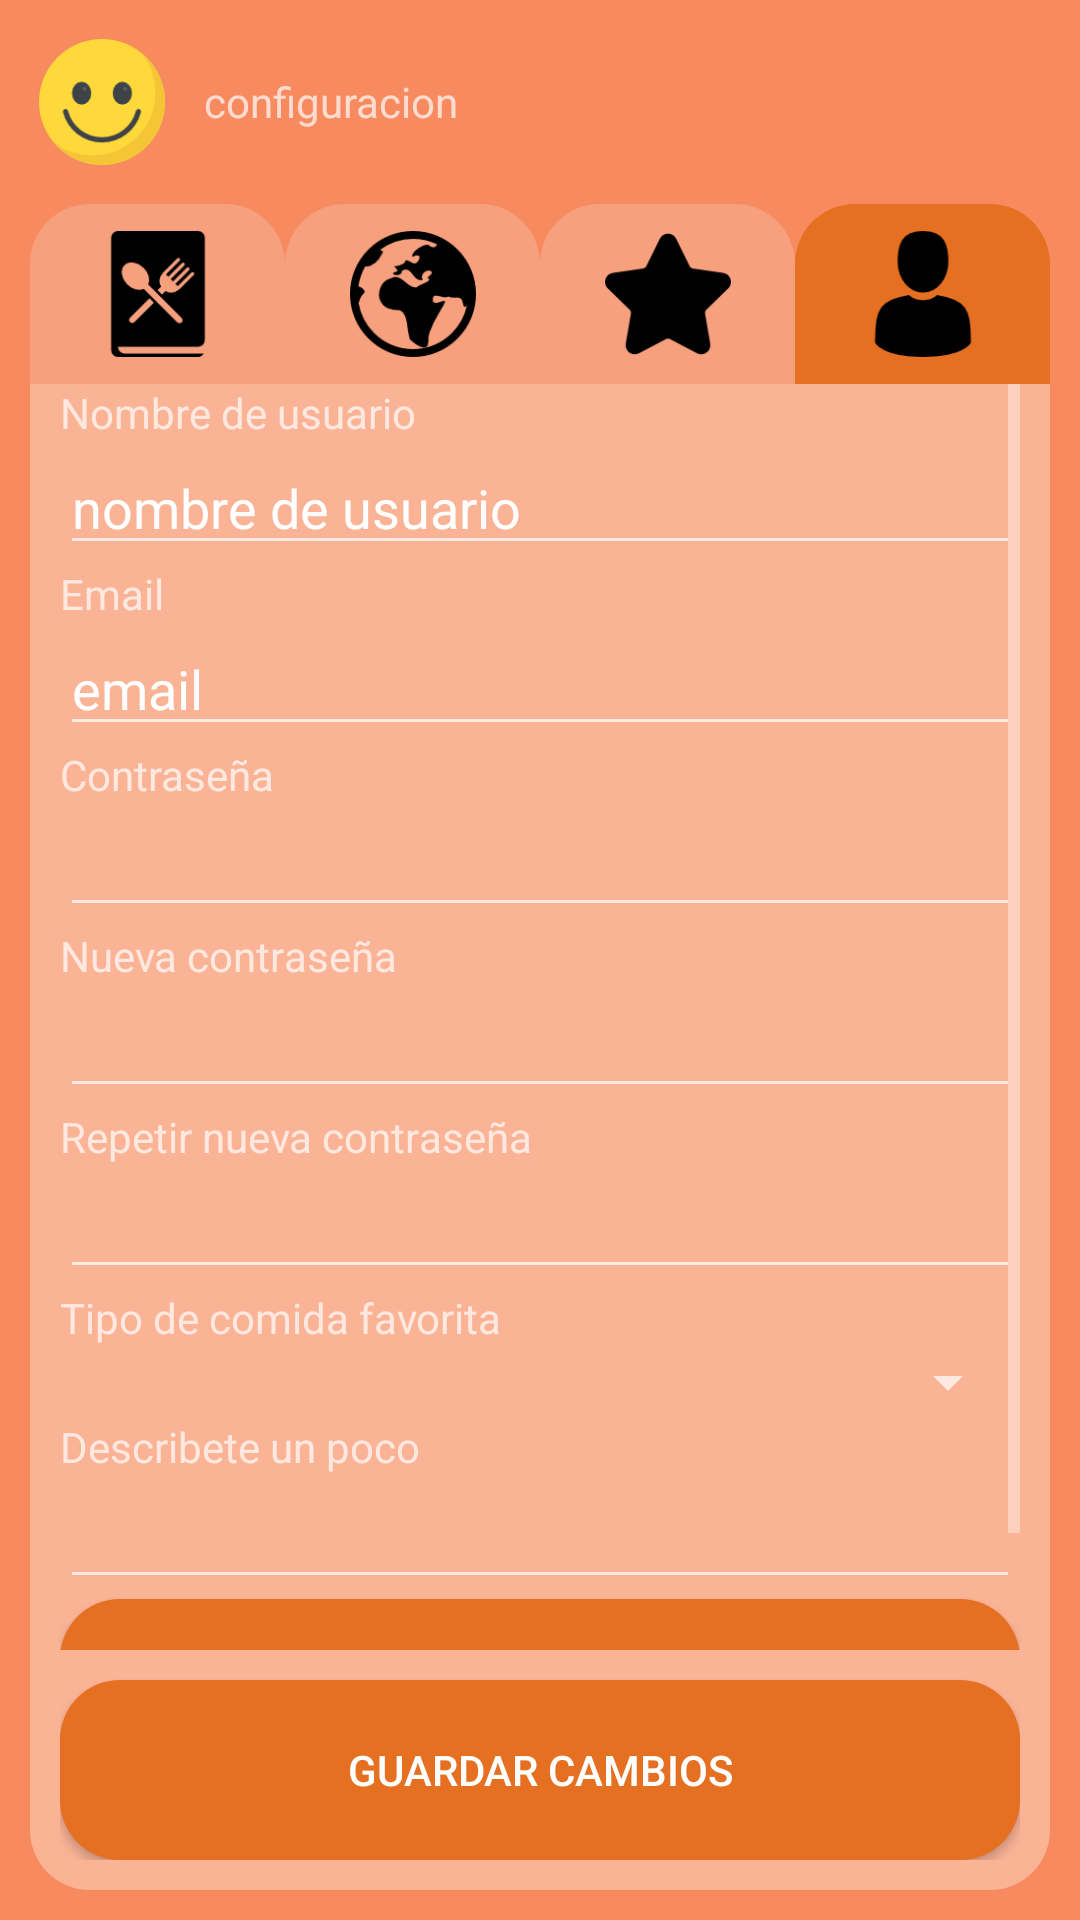

Icon click points for this 1080px x 1920px phone screenshot, format point (x, y):
favorito: point (667, 294)
recetas: point (157, 294)
